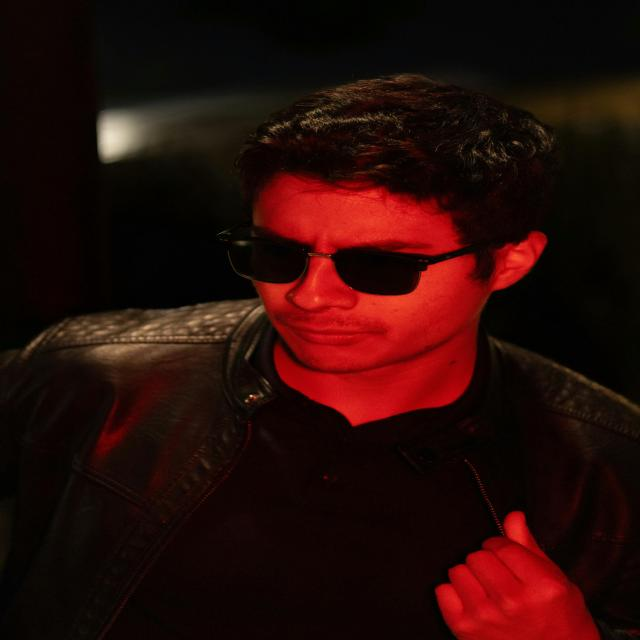oculos: (214, 220, 488, 297)
